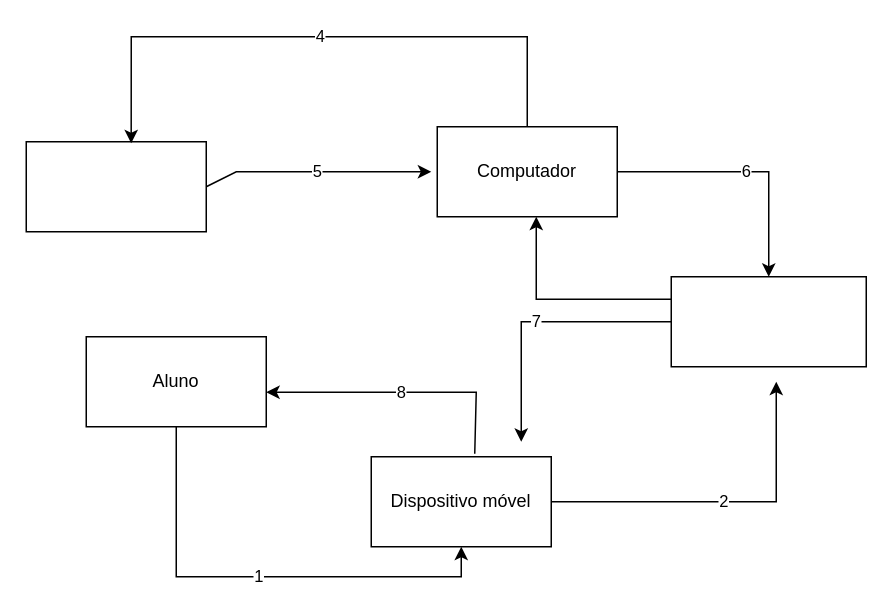
Image size: 893x615. Some labels were removed from this diagram. The shapes that lost their labels are listed below. From the top down, each one's centre as x and y in pixels, then its label:
(x=115, y=186): Administrador
(x=768, y=321): Banco de dados
